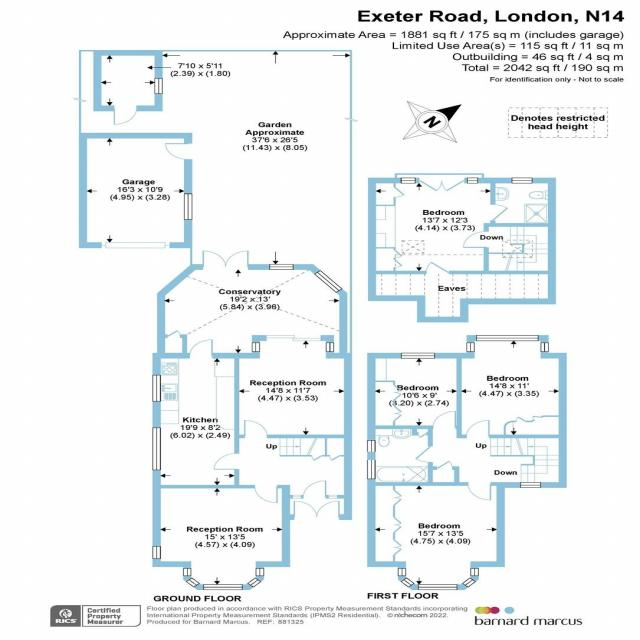DOOR: (252, 485, 279, 504), (212, 452, 240, 470), (462, 230, 490, 248), (243, 419, 268, 439), (466, 482, 492, 501), (465, 420, 491, 438), (303, 480, 327, 499), (189, 339, 213, 358), (432, 411, 458, 428)
ROOM: (152, 485, 290, 590), (152, 338, 240, 488), (393, 481, 505, 591), (234, 335, 352, 439), (456, 335, 567, 438), (396, 177, 497, 274), (367, 353, 462, 429)
WINDOW: (312, 270, 342, 293), (474, 334, 539, 341), (152, 426, 161, 470), (183, 193, 193, 220), (202, 584, 243, 590), (417, 584, 458, 590), (400, 352, 435, 359), (152, 375, 161, 402), (366, 459, 375, 480), (185, 577, 200, 588), (247, 577, 262, 588), (400, 578, 416, 588), (462, 577, 476, 588), (511, 177, 533, 184), (154, 77, 163, 94), (269, 264, 294, 270), (519, 482, 542, 488), (367, 439, 376, 453), (399, 177, 416, 184), (152, 546, 161, 559), (397, 567, 407, 577), (325, 341, 334, 352), (466, 341, 475, 352), (540, 342, 549, 352), (182, 567, 191, 576), (255, 568, 265, 576), (252, 342, 260, 352), (470, 568, 479, 576), (466, 177, 478, 183)
